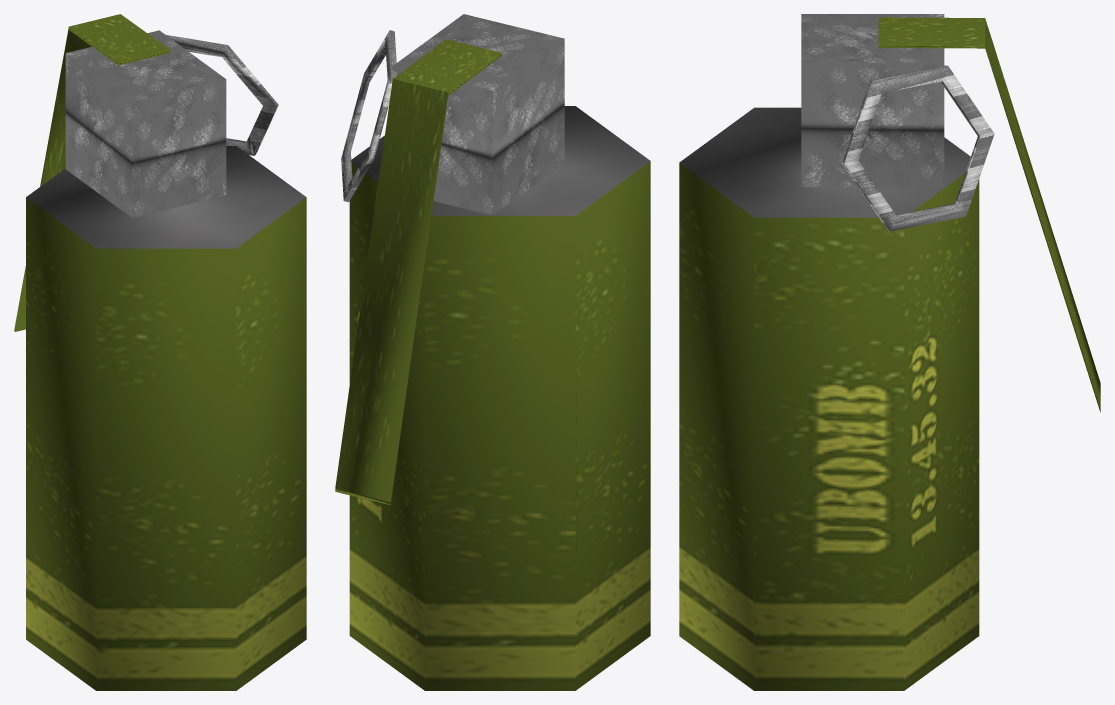
The model's file is granada.fbx.
The picture shows the model from 3 angles, left to right: view 1: azimuth 30°, elevation 25°; view 2: azimuth 150°, elevation 25°; view 3: azimuth 270°, elevation 25°; orthographic projection. The views are drawn at different scales.
Visible parts, largest first — view 1: Cylinder, Cube_000, Cube_001, Cube_002; view 2: Cylinder, Cube_001, Cube_000, Cube_002; view 3: Cylinder, Cube_000, Cube_001, Cube_002.
Part boxes in pixels (x1,y1,x2,y2): Cylinder: (26,146,306,690); Cube_000: (65,30,226,217); Cube_001: (14,14,278,331); Cube_002: (166,35,278,155); Cylinder: (349,106,650,690); Cube_001: (335,31,501,505); Cube_000: (392,14,564,215); Cube_002: (341,30,397,200); Cylinder: (679,107,979,690); Cube_000: (801,14,944,187); Cube_001: (842,17,1100,412); Cube_002: (842,65,994,231).
Bounding box in the file's own units: 1.85 × 4.46 × 2.81.
